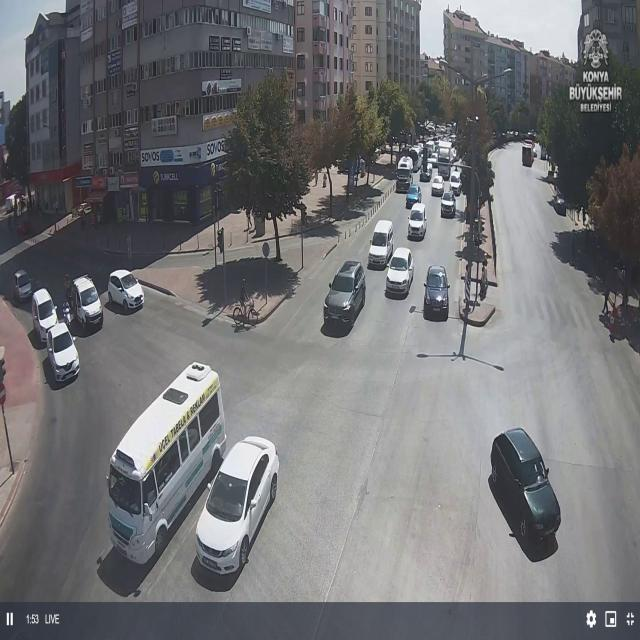Bus: (106, 364, 226, 559)
Car: (184, 429, 293, 588), (488, 428, 560, 550), (324, 261, 366, 325), (45, 324, 80, 383), (31, 290, 60, 346), (108, 269, 145, 311), (423, 265, 451, 318), (385, 248, 414, 295), (12, 270, 33, 304), (408, 203, 428, 236), (440, 191, 457, 217), (406, 184, 422, 208), (410, 146, 424, 171), (449, 170, 462, 196), (431, 175, 445, 197), (419, 163, 433, 182)
Truck: (433, 140, 455, 180), (391, 154, 412, 192), (518, 141, 538, 170)
Van: (69, 276, 103, 328), (368, 220, 394, 268)
